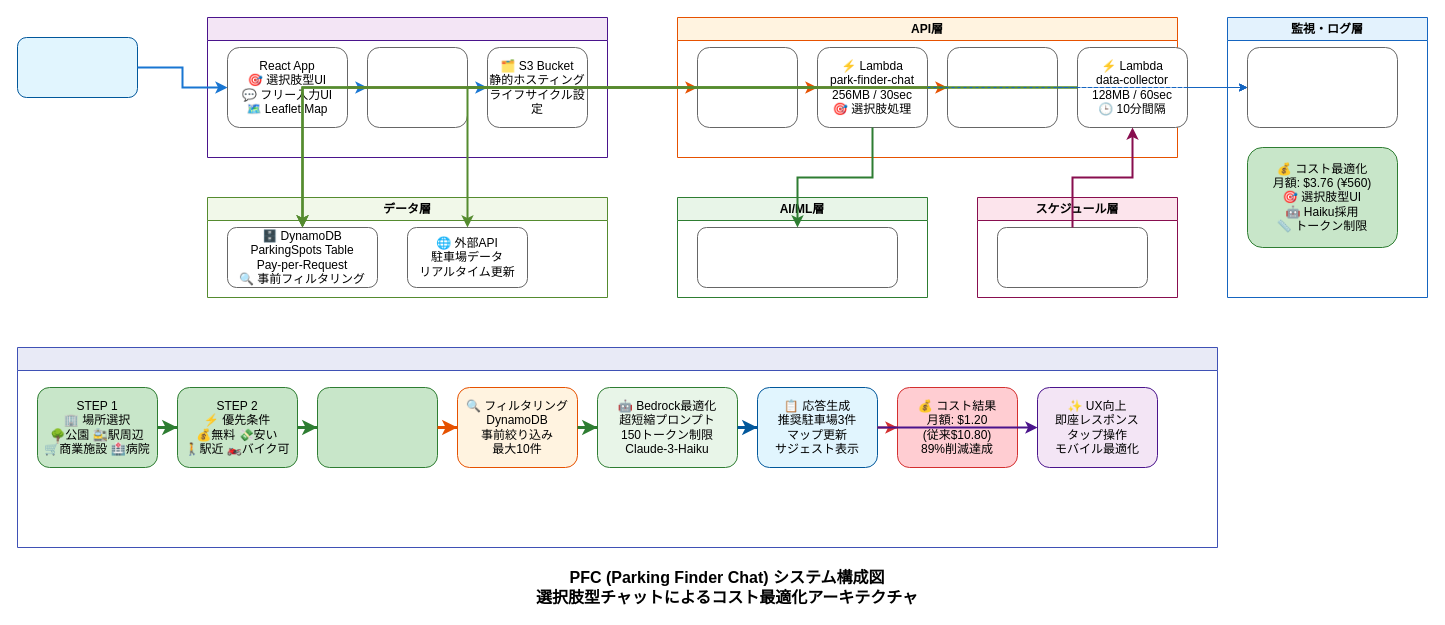
Some shapes in this 1445 by 625 pixel diagram are drawn without their labels. The box of each missing label's shape, as (x1, y1, x2, y2) in pixels:
STEP 3 📍 エリア選択 池袋西口/東口 現在地周辺: (316, 386, 438, 468)
⏰ EventBridge Scheduler 🔄 10分間隔実行: (996, 226, 1148, 288)
☁️ CloudFront CDN配信 PriceClass_100: (366, 46, 468, 128)
⚡ Lambda parking-spots-api 128MB / 30sec: (946, 46, 1058, 128)
フロントエンド層: (206, 16, 608, 158)
🌐 API Gateway HTTP API CORS設定: (696, 46, 798, 128)
🎯 選択肢型チャットフロー: (16, 346, 1218, 548)
📊 CloudWatch Logs & Metrics 💰 コスト監視 🚨 アラート設定: (1246, 46, 1398, 128)
🤖 Amazon Bedrock Claude-3-Haiku 💰 89%コスト削減 📏 150トークン制限: (696, 226, 898, 288)
🧑‍💻 ユーザー: (16, 36, 138, 98)
